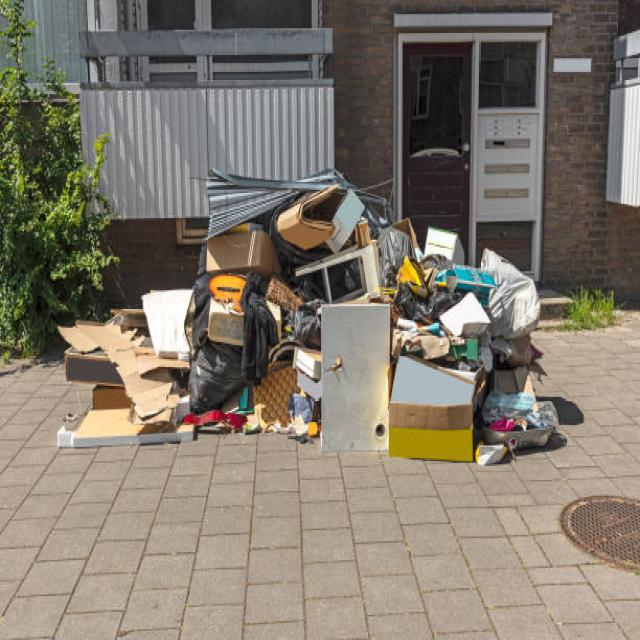cardboard: (67, 314, 206, 461), (385, 359, 481, 460), (444, 262, 503, 300), (203, 236, 273, 268)
